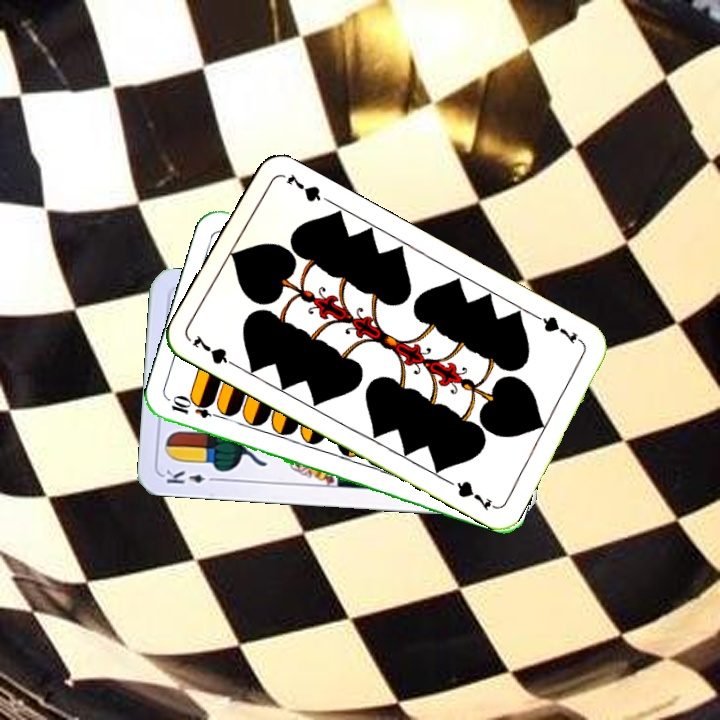E10: (167, 394, 226, 422)
EK: (162, 465, 221, 487)
G7: (188, 331, 242, 371), (532, 311, 586, 347)
